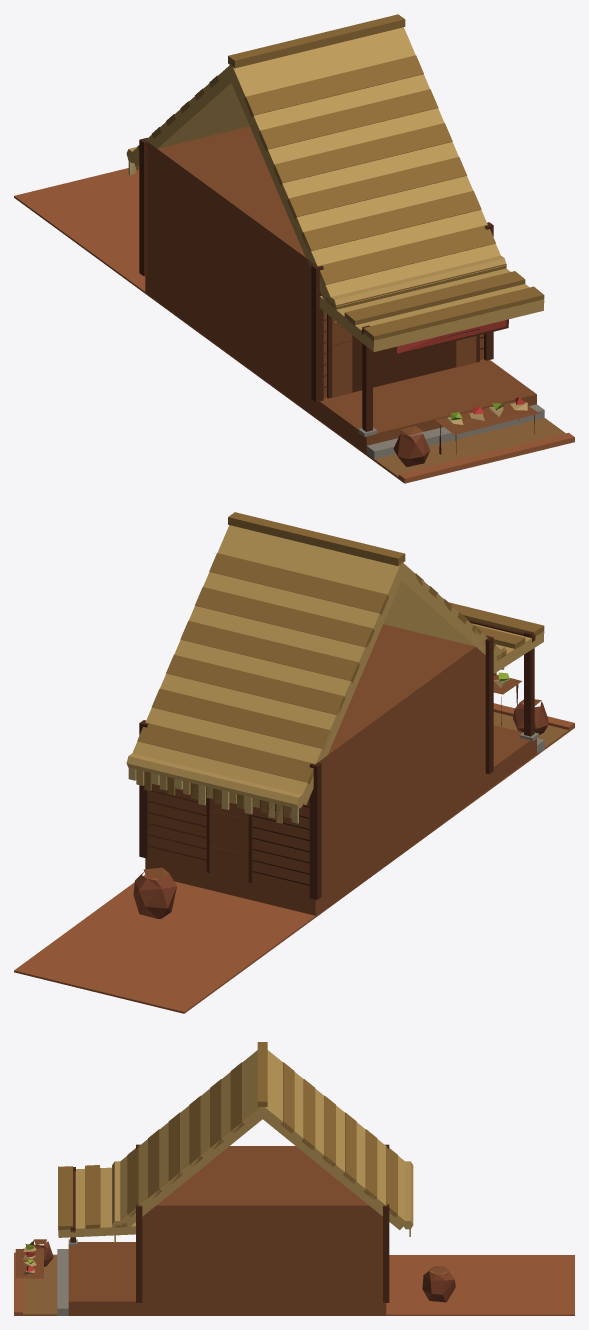
The model's file is bay1_mid.glb.
The picture shows the model from 3 angles, top to bottom: view 1: azimuth 30°, elevation 25°; view 2: azimuth 150°, elevation 25°; view 3: azimuth 270°, elevation 25°; orthographic projection. The views are drawn at different scales.
Visible parts, largest first — view 1: body; view 2: body; view 3: body.
Part boxes in pixels (x1,y1,x2,y2): body: (14, 14, 574, 483); body: (14, 512, 574, 1013); body: (14, 1042, 574, 1315).
Bounding box in the file's own units: 4.18 × 6.71 × 15.9.
